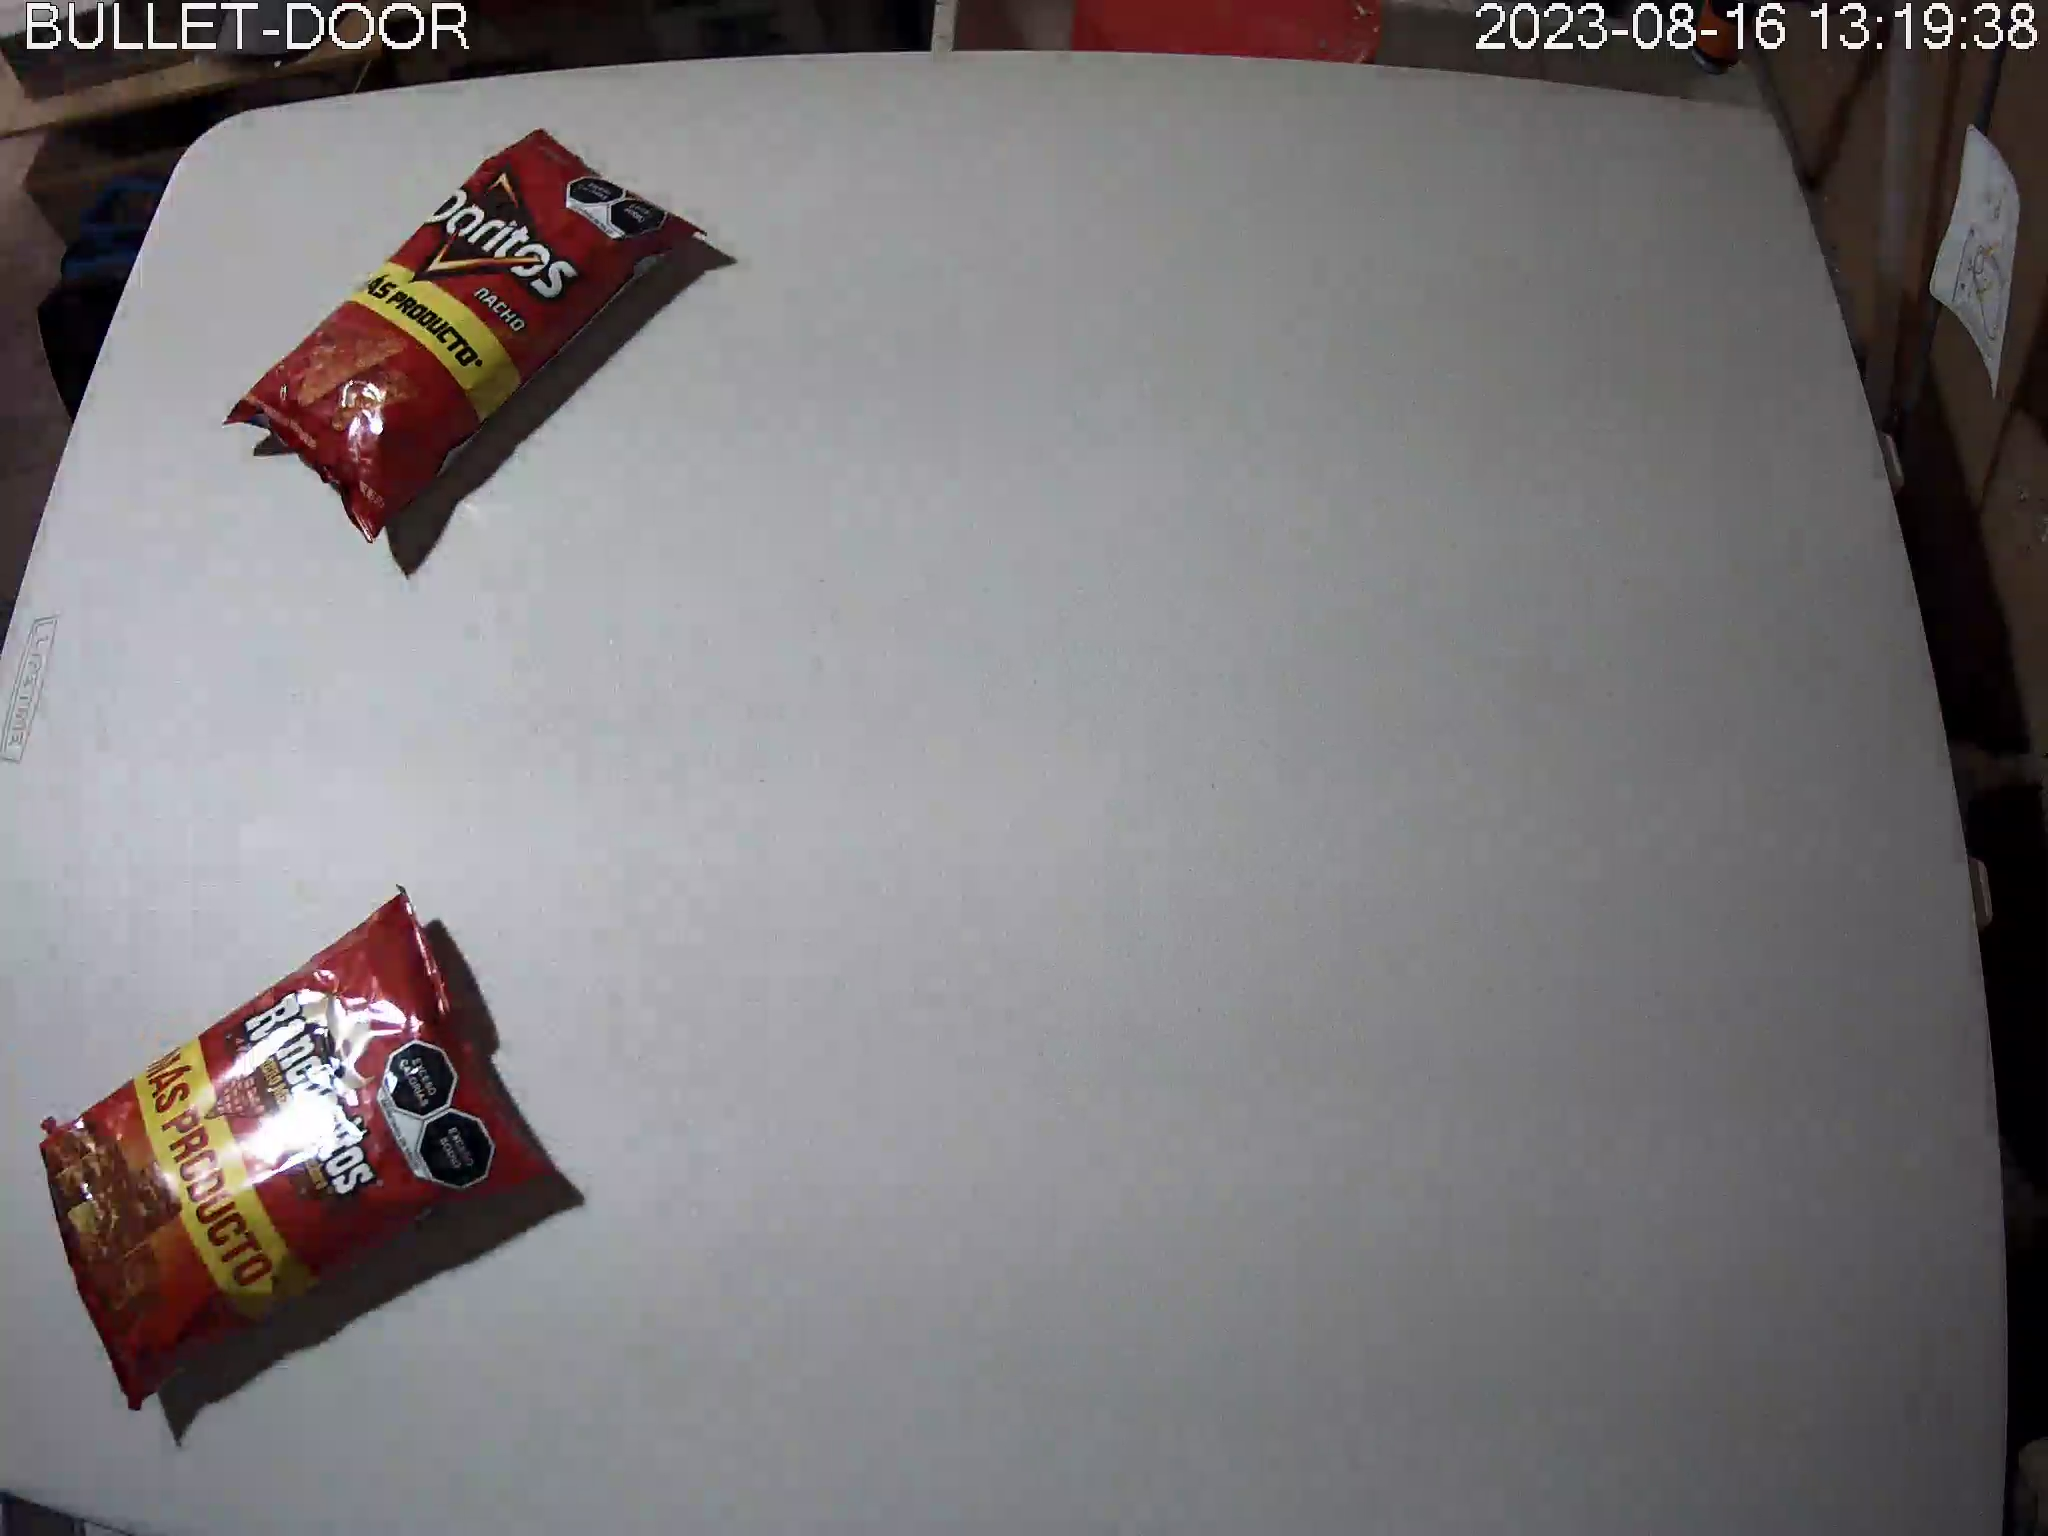DoritosN_61_F: (223, 127, 708, 547)
Rancheritos_58_F: (39, 884, 563, 1410)
